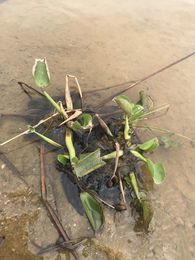water_hyacinth: (13, 56, 169, 231)
